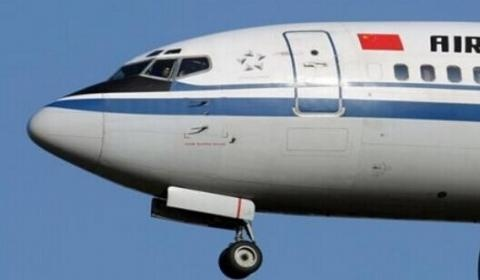airplane: (27, 22, 480, 234)
